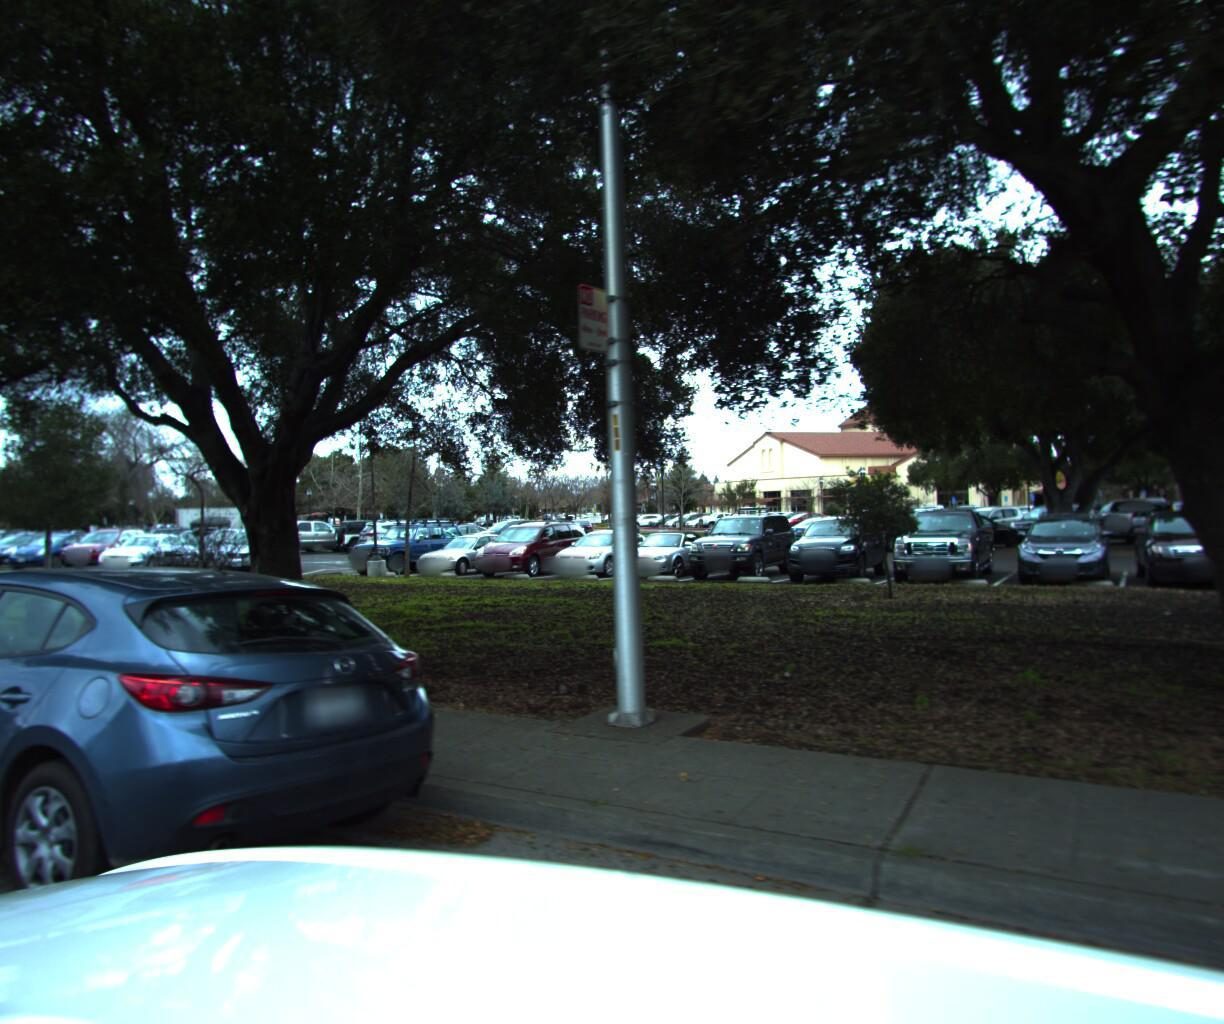car: (0, 541, 477, 979)
